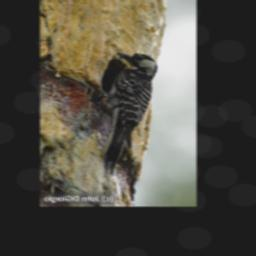Woodpecker: (89, 51, 158, 177)
